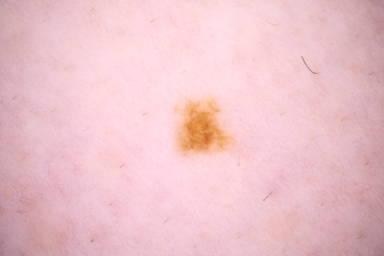nevus: (176, 100, 227, 152)
